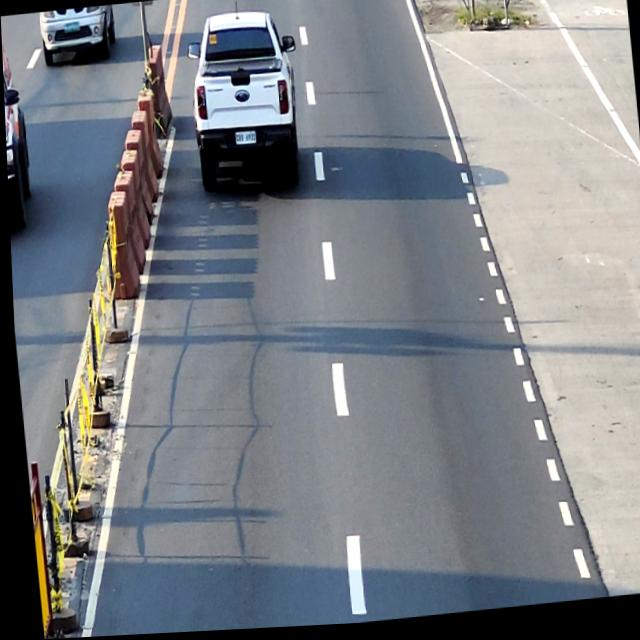Car: (184, 10, 307, 201), (37, 6, 118, 66)
License-Plate: (234, 133, 256, 149), (62, 22, 80, 33)
